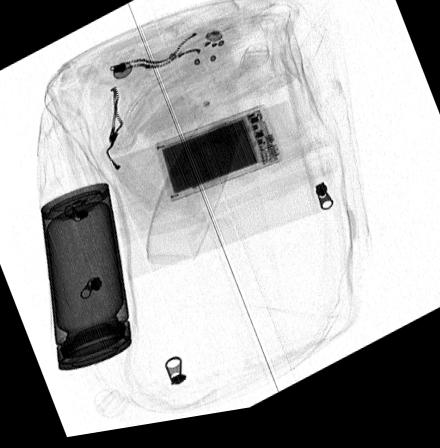Powerbank: (154, 113, 283, 208)
